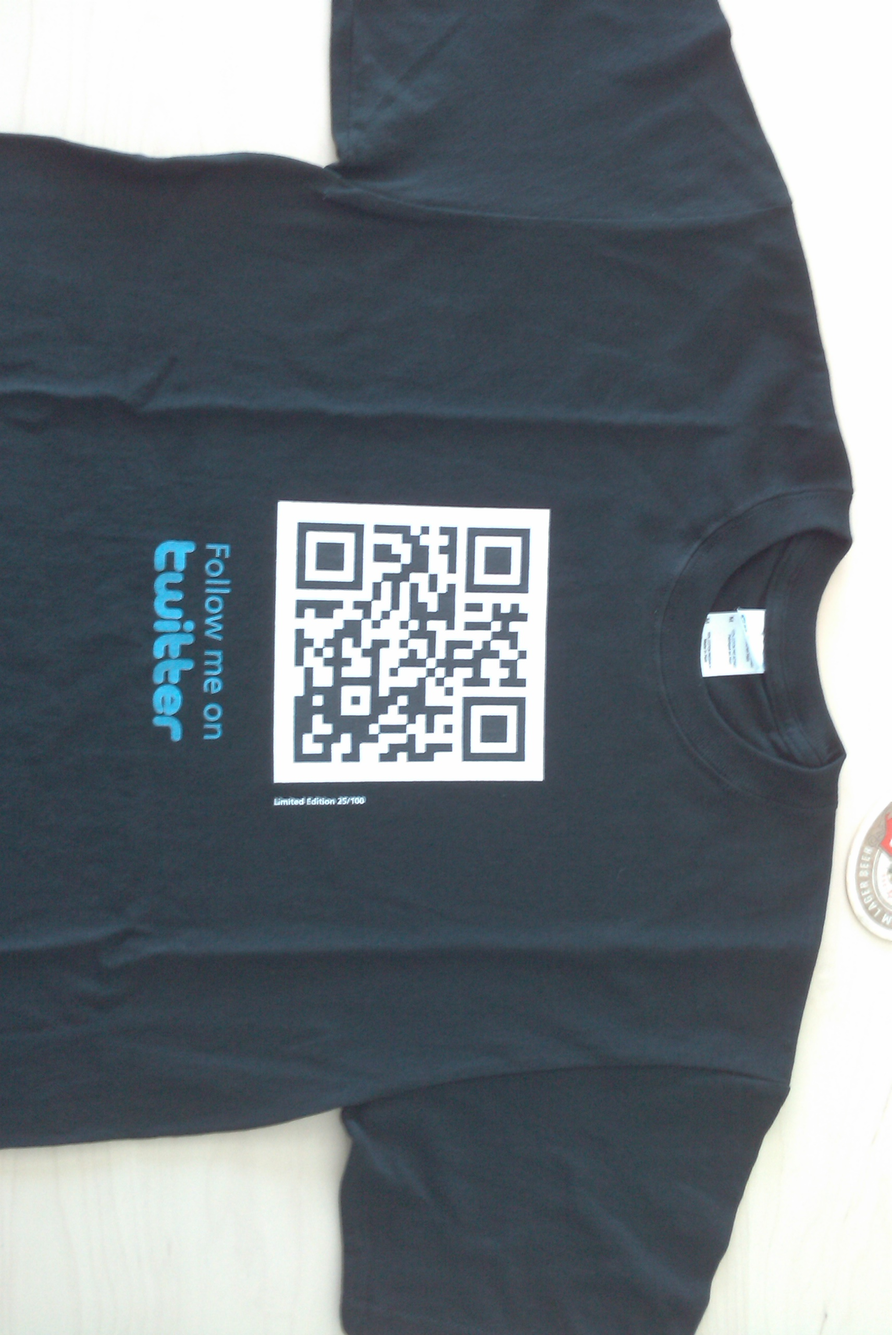QR-CODE: (293, 523, 530, 762)
